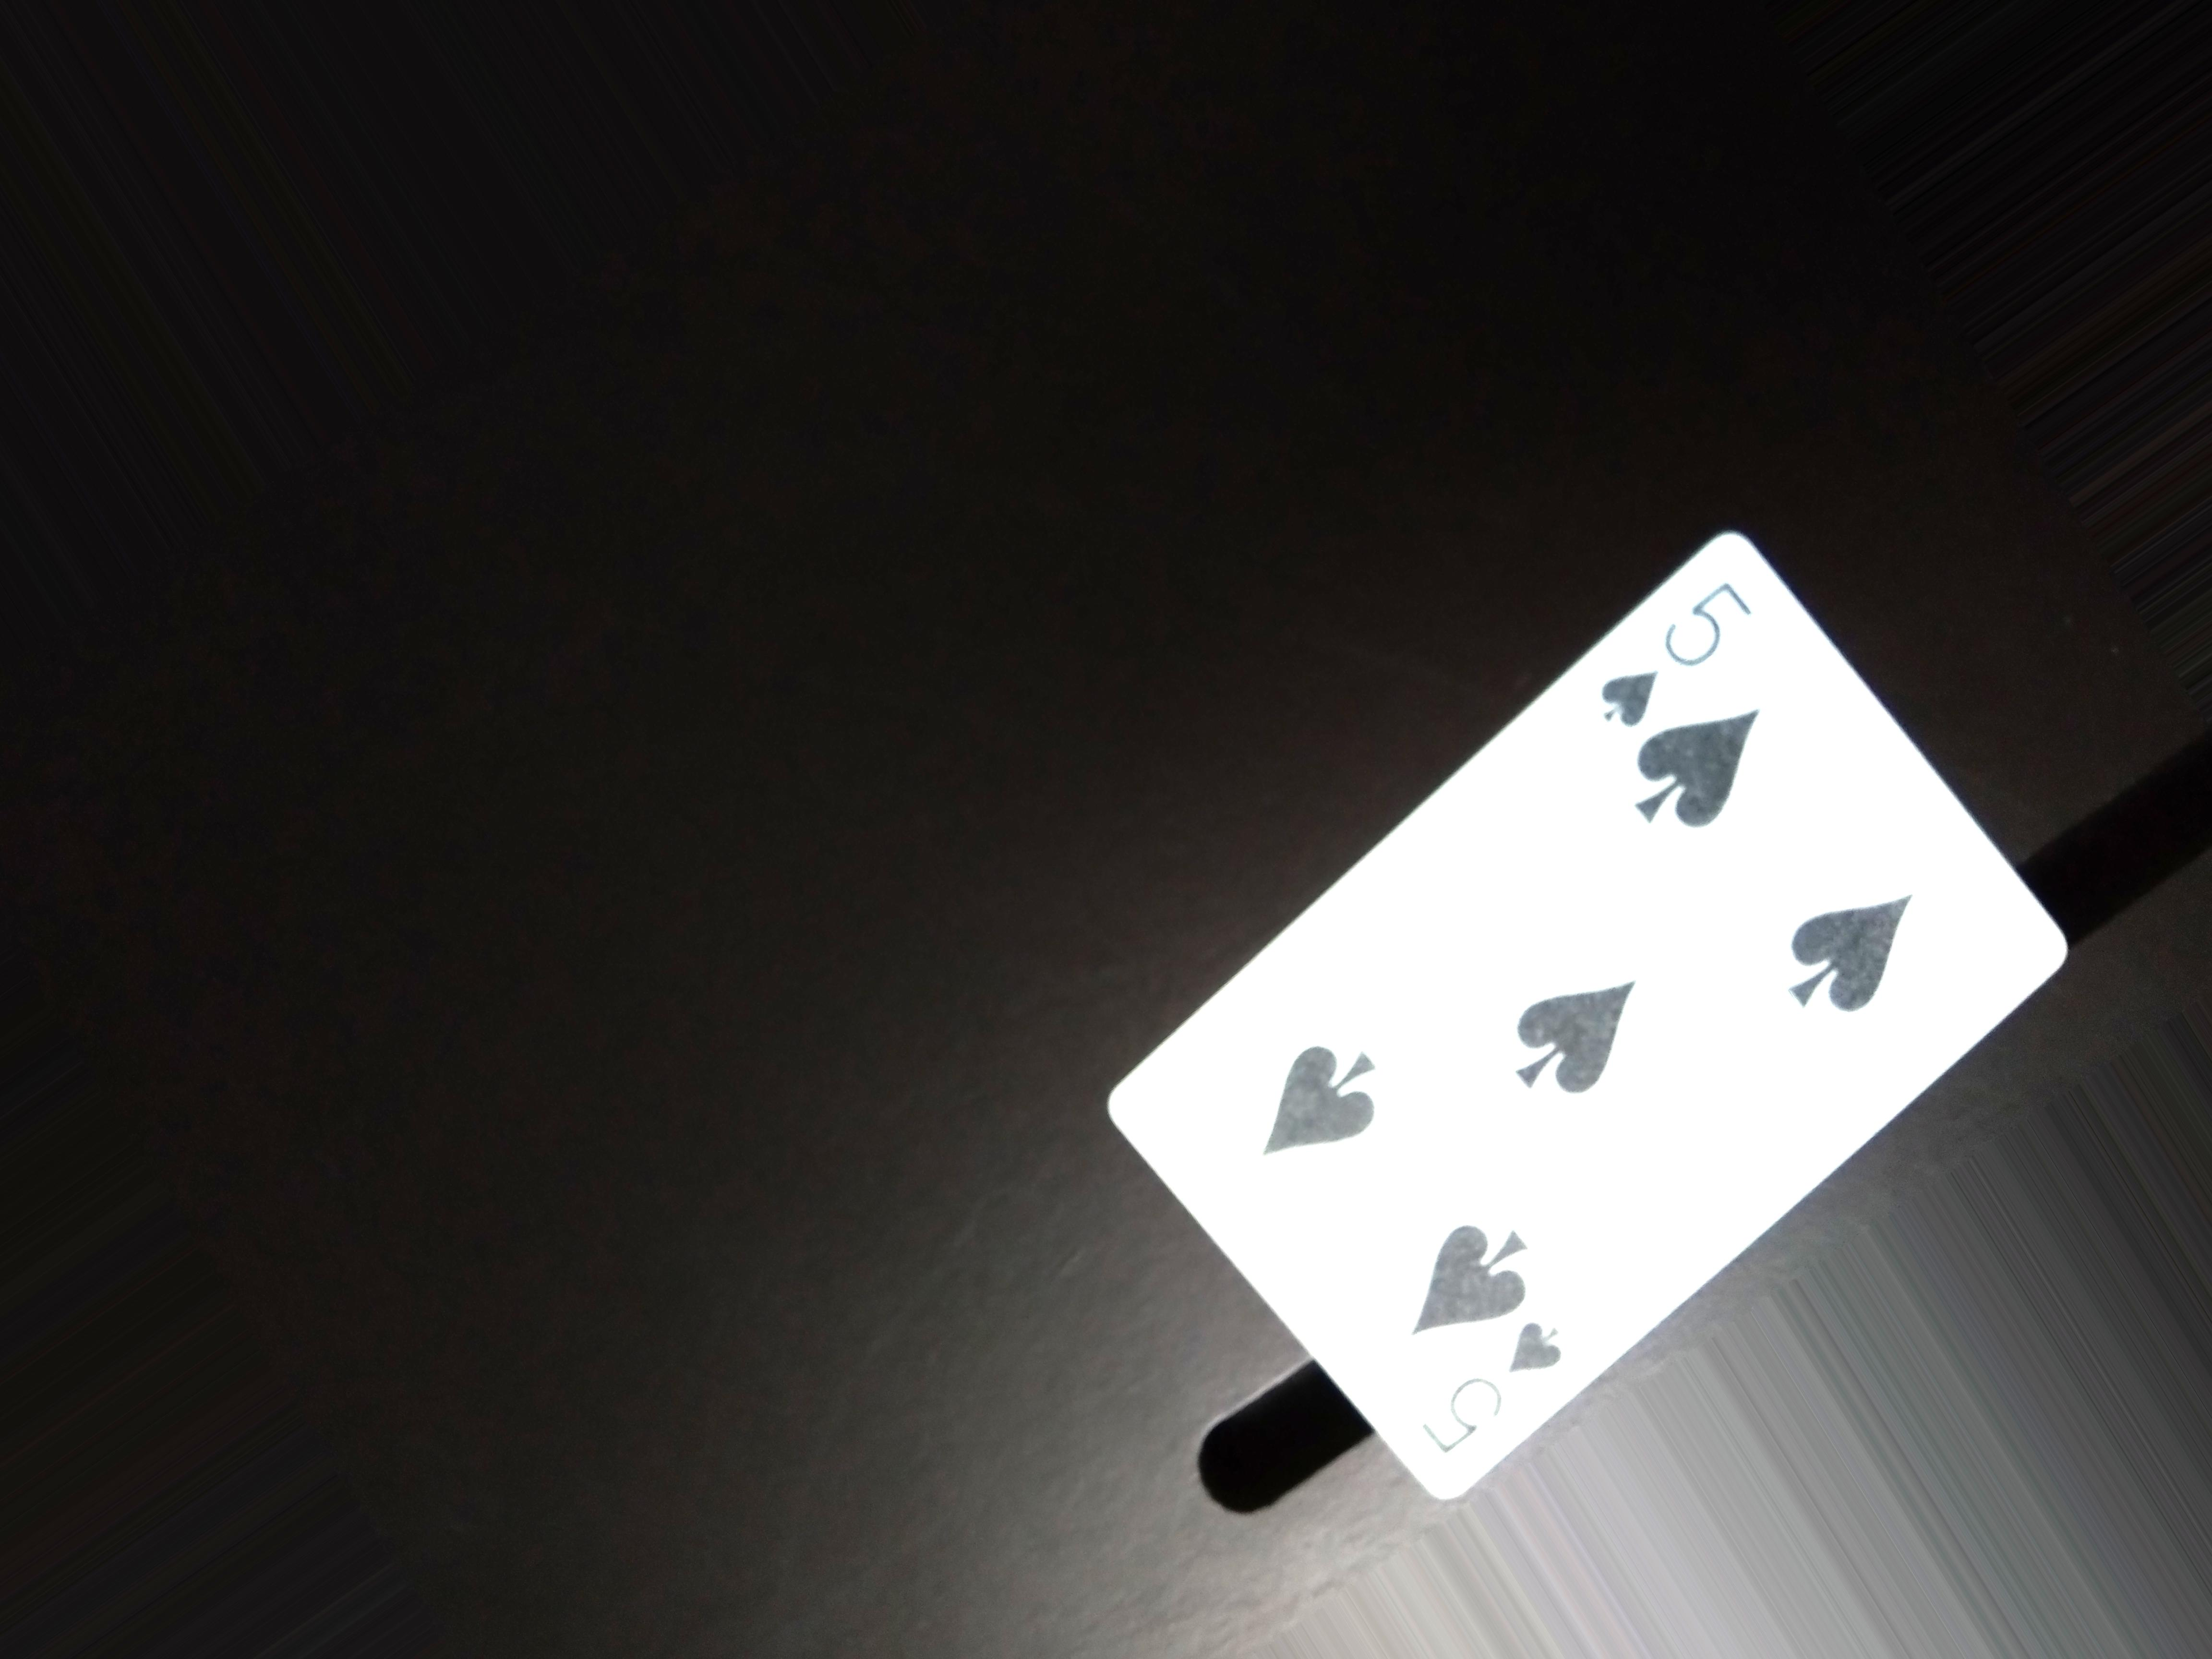5S: (1613, 552, 1754, 734)
